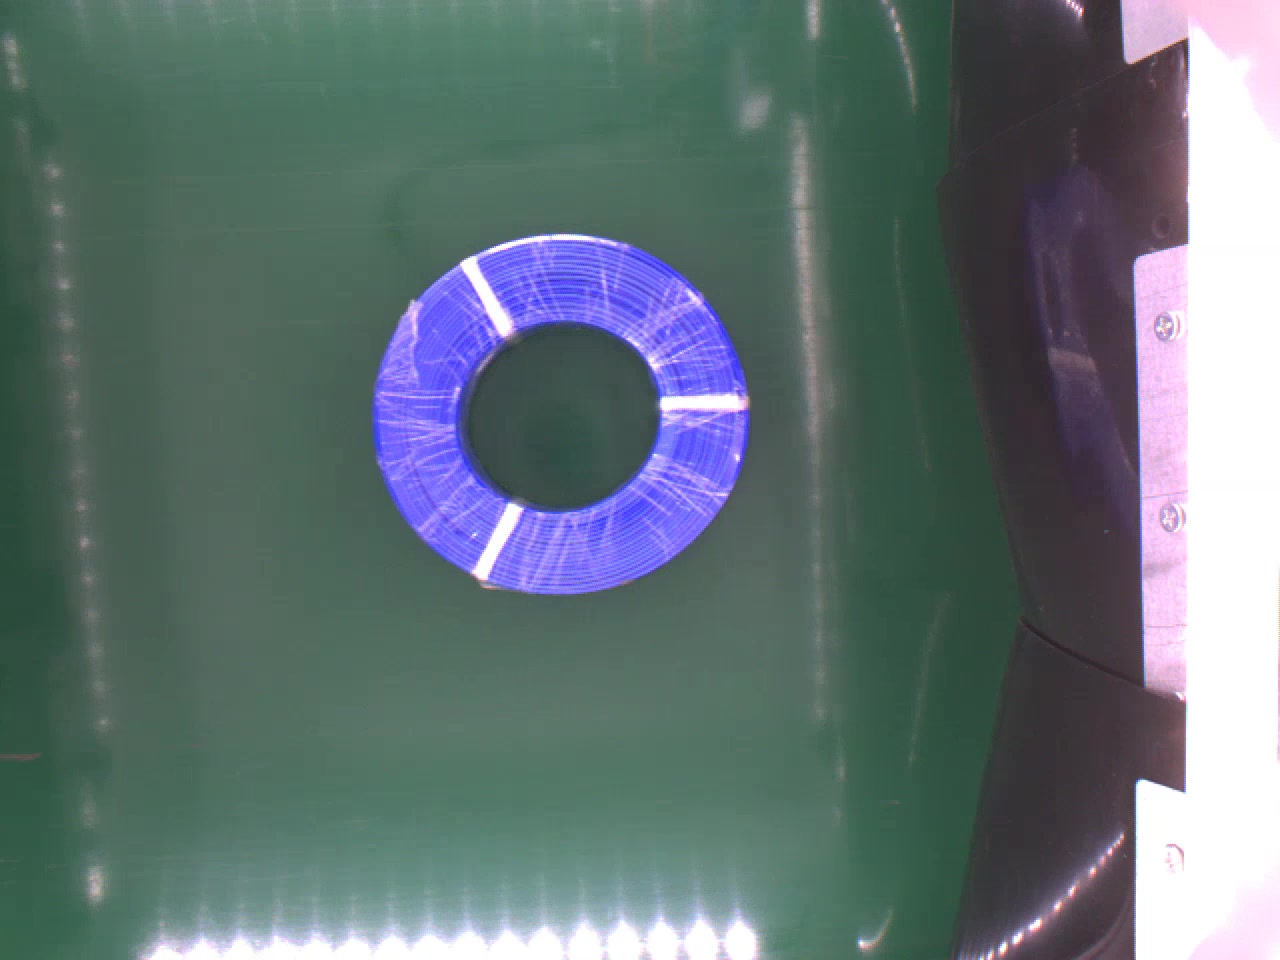blue: (371, 231, 748, 596)
